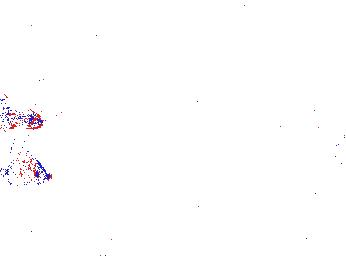redtail glassfish: (1, 100, 44, 134)
